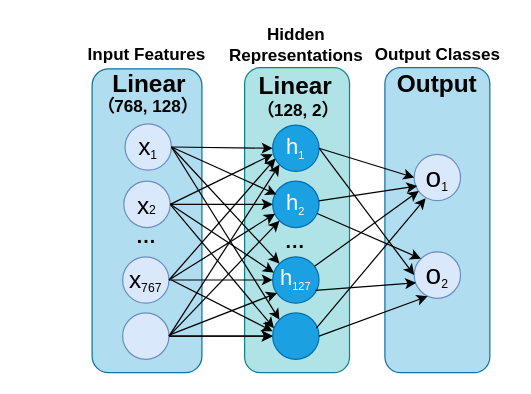
Image size: 531x394. Some labels were removed from this diagram. Here are the shapes that lost their labels. From the top down, the centre of each, then its label:
the point at 145,335: x 768
the point at 295,335: h 128
